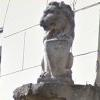Statue: (30, 1, 94, 90)
